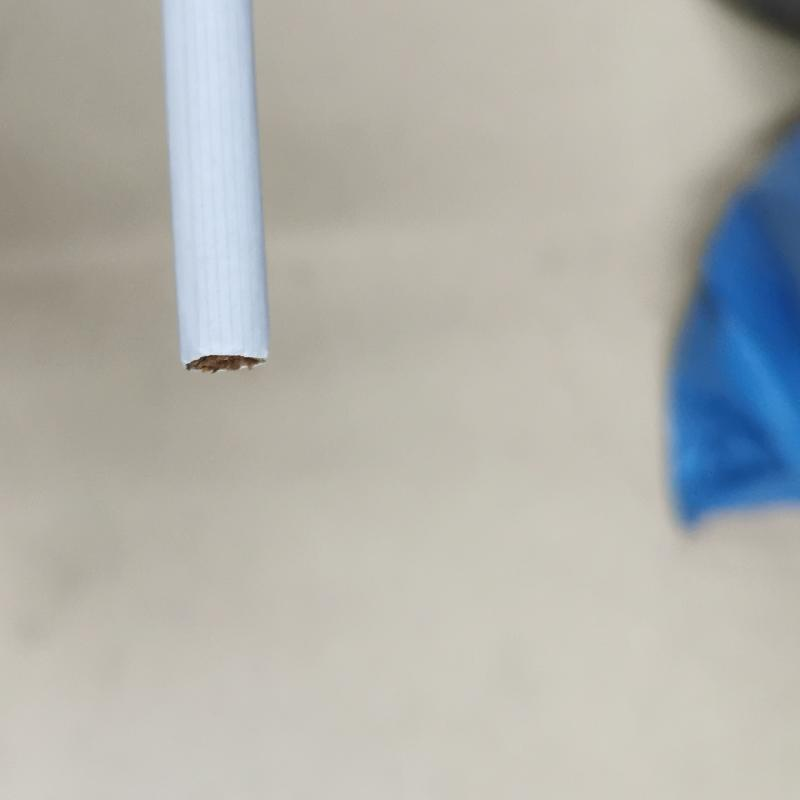cigarette: (150, 1, 279, 380)
